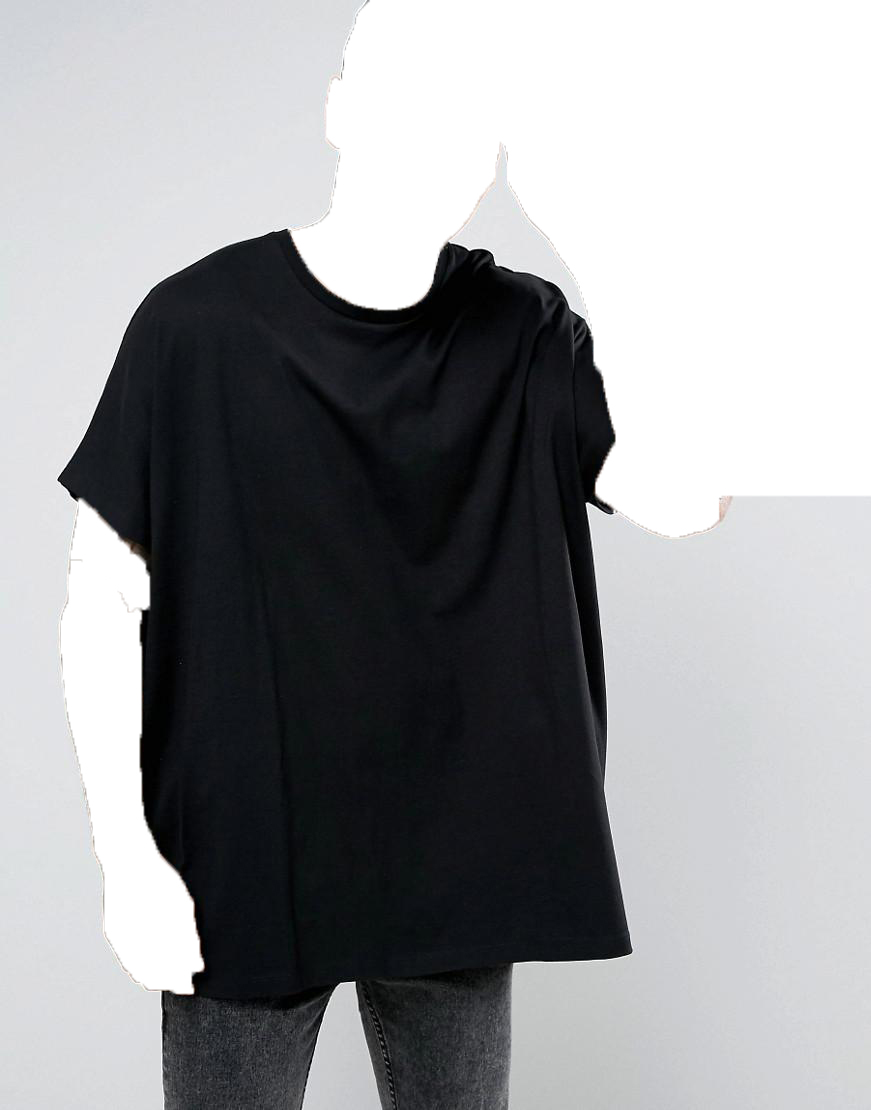teeshirt: (52, 229, 698, 1008)
